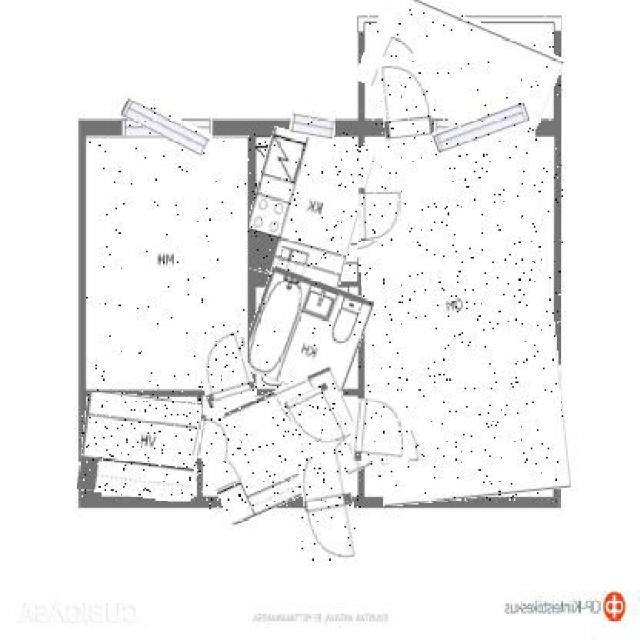door: (300, 438, 357, 568), (194, 328, 252, 406), (380, 55, 431, 138), (290, 386, 348, 456), (354, 400, 412, 465), (358, 189, 400, 242), (196, 415, 236, 460)
window: (121, 105, 214, 146), (432, 109, 530, 146), (291, 115, 334, 140)
zone: (357, 136, 563, 502), (86, 136, 249, 392), (360, 3, 560, 134), (197, 380, 366, 511), (245, 132, 368, 288), (245, 274, 368, 397), (80, 392, 198, 498)
